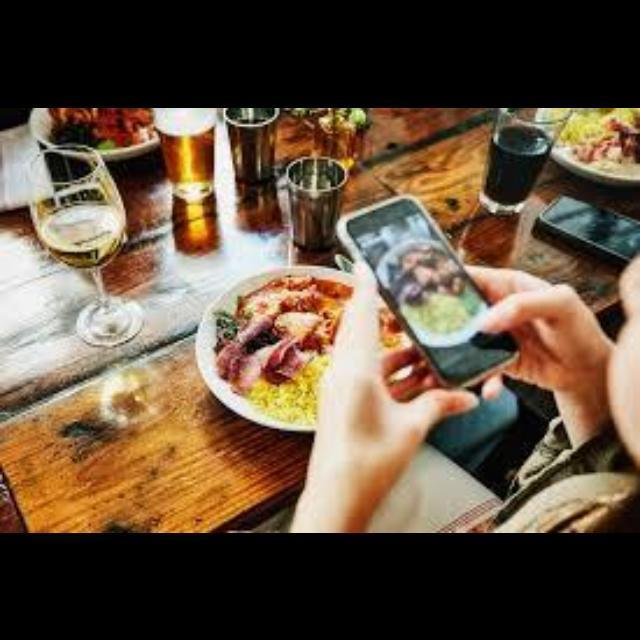PhoneUse: (340, 196, 522, 386), (538, 192, 640, 260)
